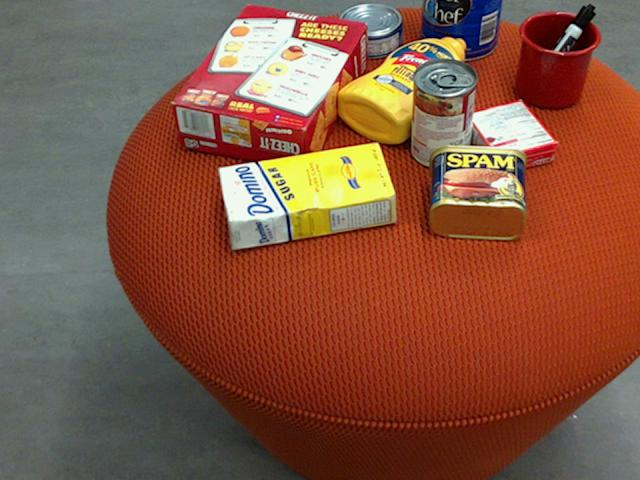cracker_box: (168, 3, 367, 171)
gelatin_box: (465, 101, 559, 174)
large_marker: (523, 1, 595, 95)
master_chef_can: (419, 0, 502, 58)
mug: (515, 10, 601, 107)
mustard_bottle: (336, 36, 466, 142)
potted_meat_can: (427, 144, 525, 239)
sugar_box: (216, 141, 397, 250)
tomato_soup_can: (411, 56, 475, 168)
tuna_fish_can: (337, 2, 402, 56)
